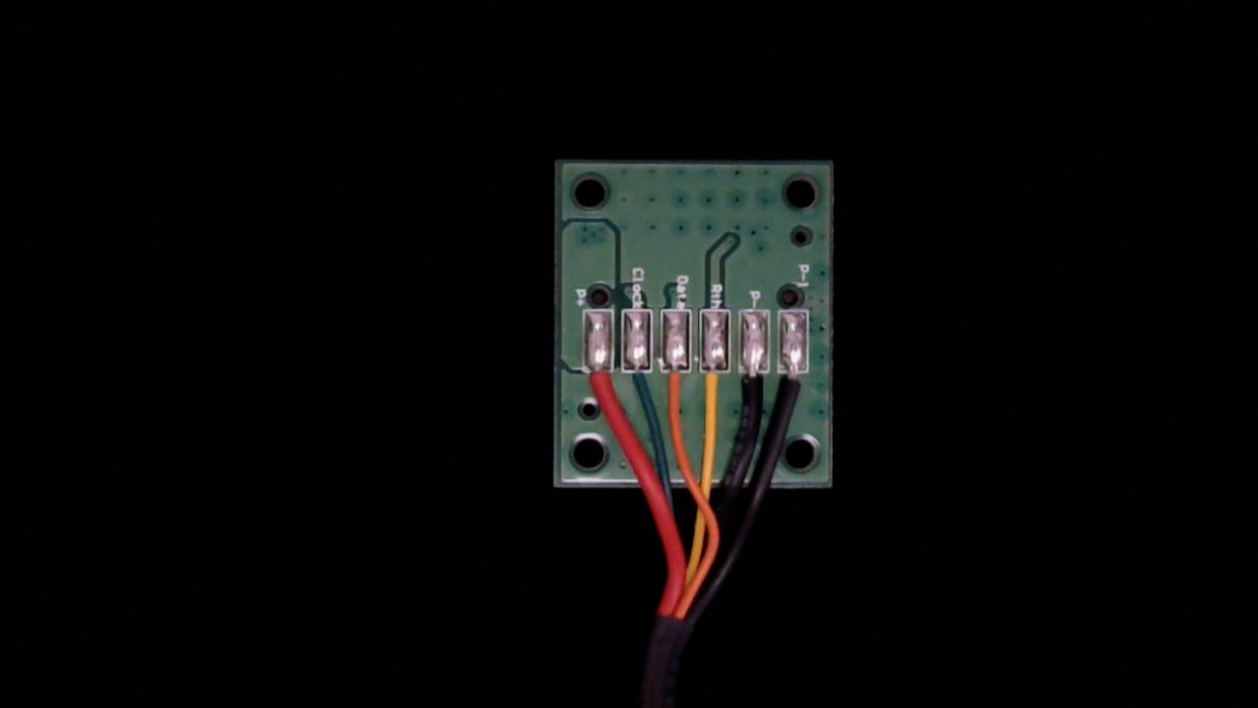Black: (737, 353, 772, 426)
Black1: (784, 354, 814, 423)
Green: (625, 354, 653, 414)
Orange: (662, 354, 695, 425)
Red: (585, 354, 617, 420)
Yellow: (697, 354, 731, 428)
